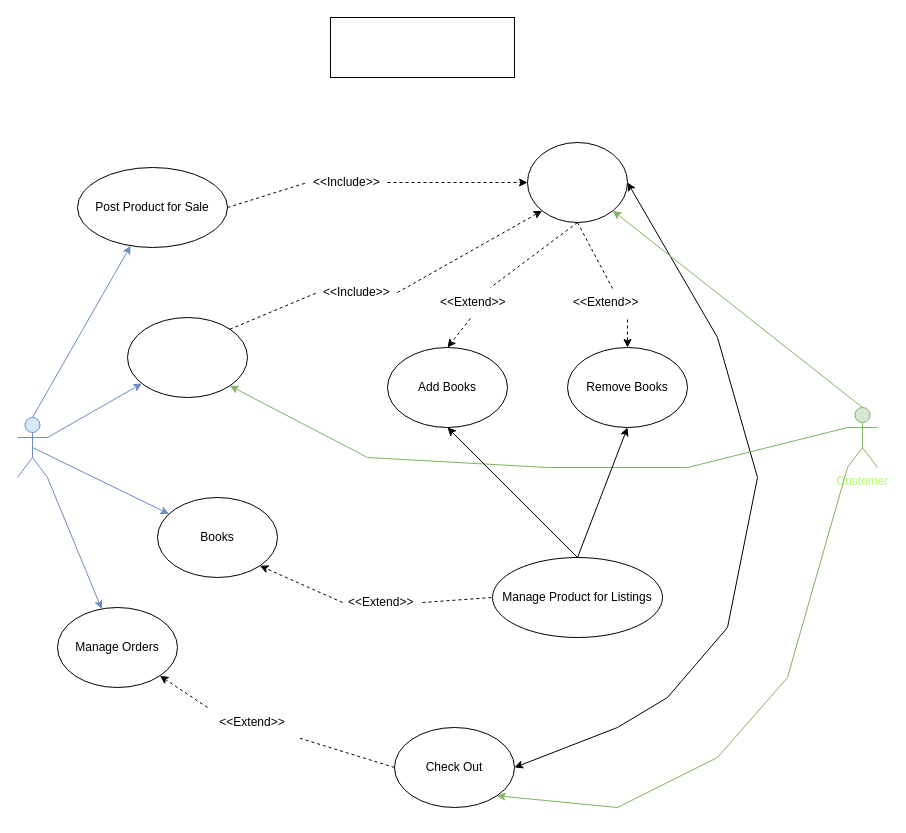
This 906x833 diagram has some shape labels left out. Here are the shapes that lost their labels. From the top down, the centre of each, then its label:
the point at 422,47: Online Bookstore-Booknest
the point at 577,182: Book Catalog
the point at 187,357: Register/Login
the point at 32,447: Seller
